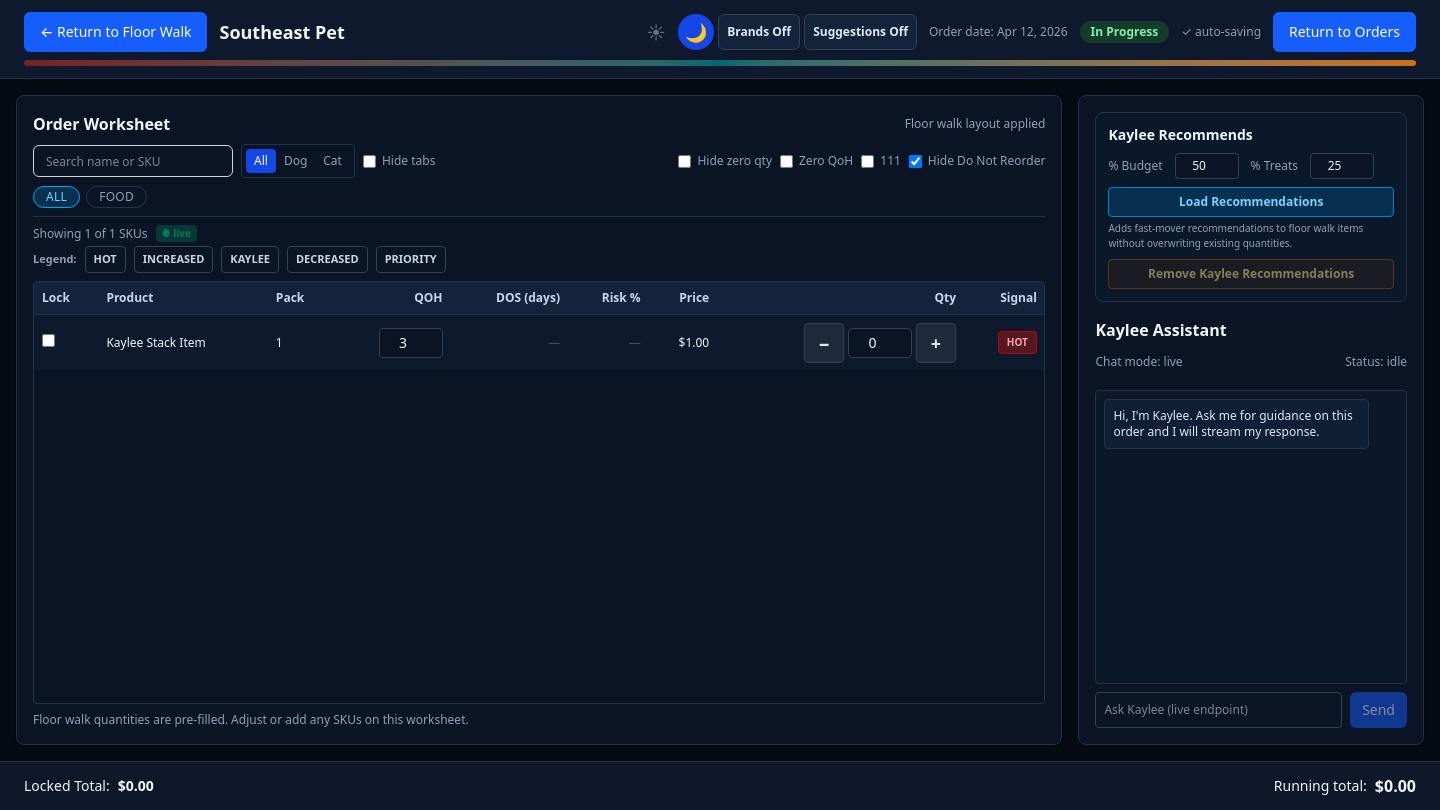
it: OrderDetail — submit lifecycle › keeps KAYLEE while showing INCREASED and DECREASED when the operator edits a recommended qty
The image size is (1440, 810).
Expected: the text "Kaylee Stack Item" is shown, [98,314,268,370]
Click the button "Load Recommendations": coordinates (1251, 202) [1108,187,1394,217]
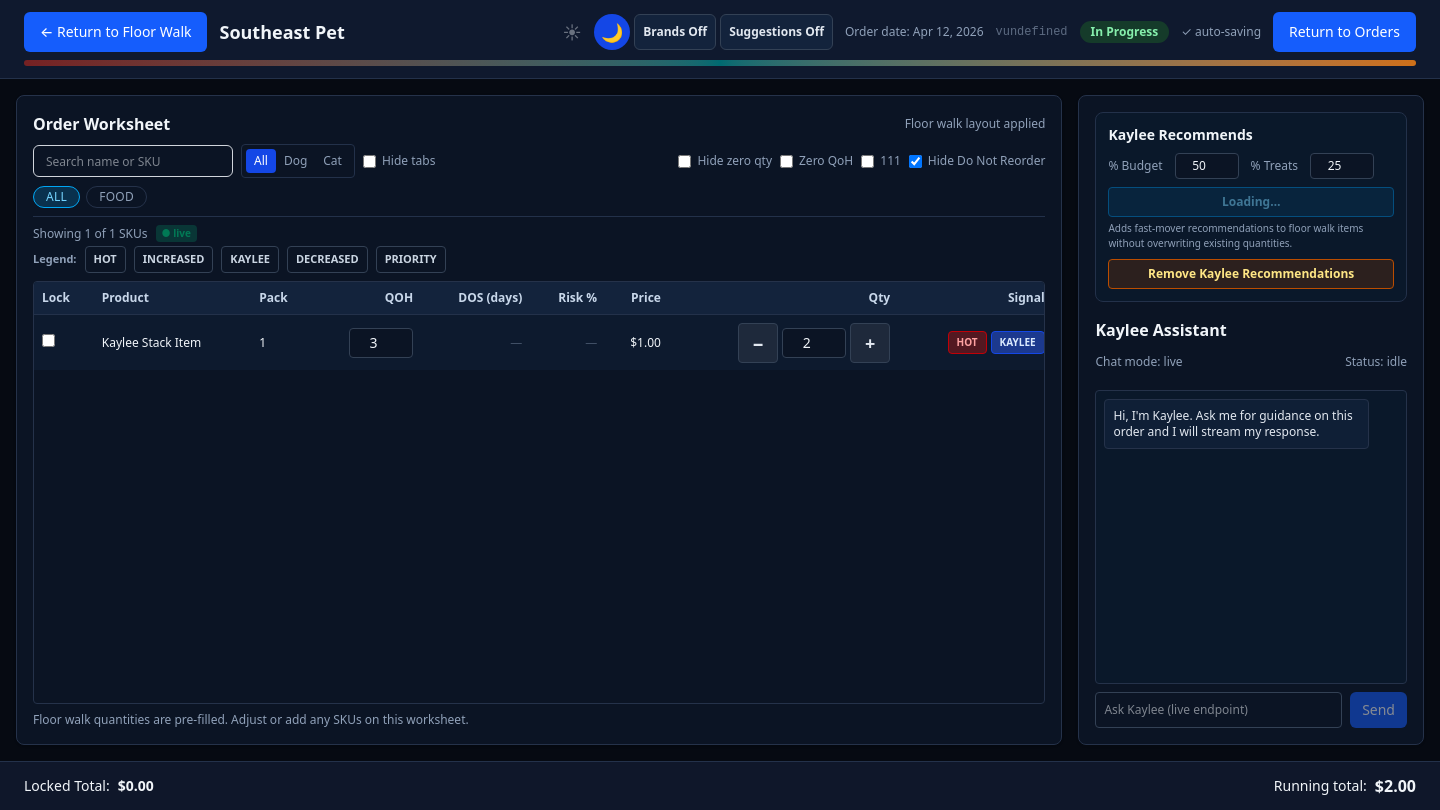
Expected: the text "Kaylee Stack Item" is shown, [102,334,201,351]
Now the text "KAYLEE" is shown, box [991,331,1045,354]
Click the button named "increase sku-rec-stack": coordinates (870, 343) [850,323,890,363]
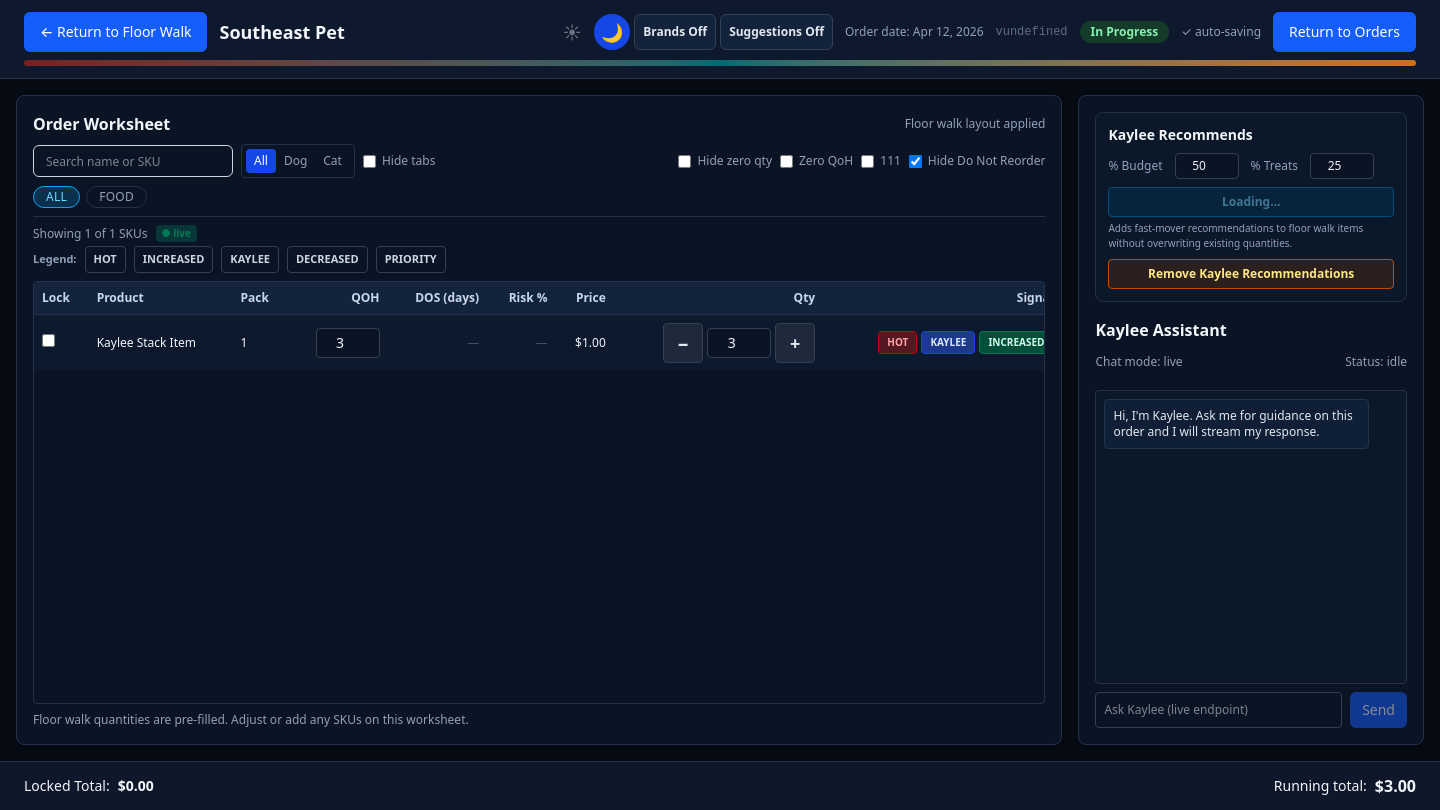
Now the text "KAYLEE" is shown, box [921,331,975,354]
Now the text "INCREASED" is shown, box [979,331,1045,354]
Replace the text in the number field in the row of "Kaylee Stack Item" with "1": coordinates (739, 343) [707,328,771,358]
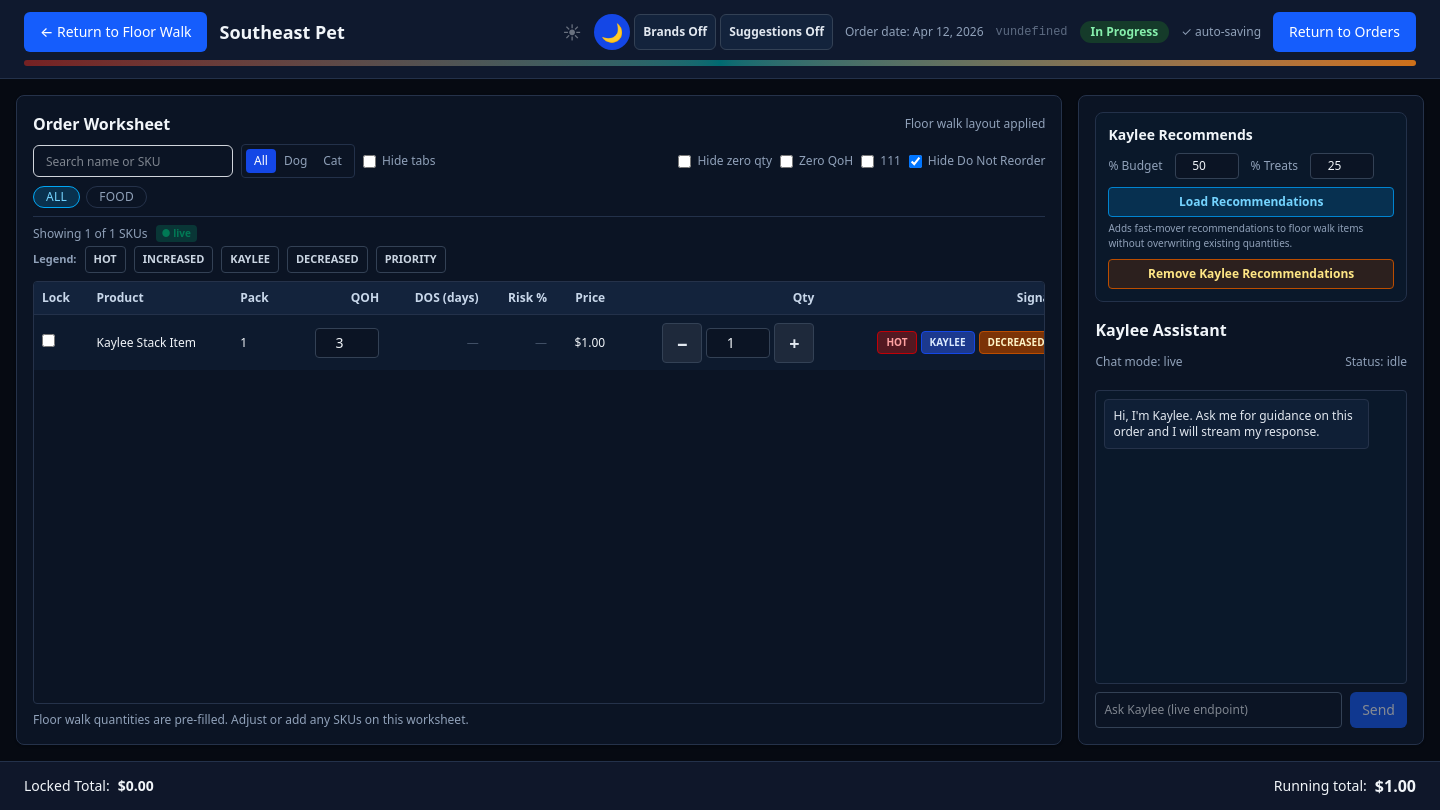
Now the text "KAYLEE" is shown, box [920,331,974,354]
Now the text "DECREASED" is shown, box [978,331,1045,354]
